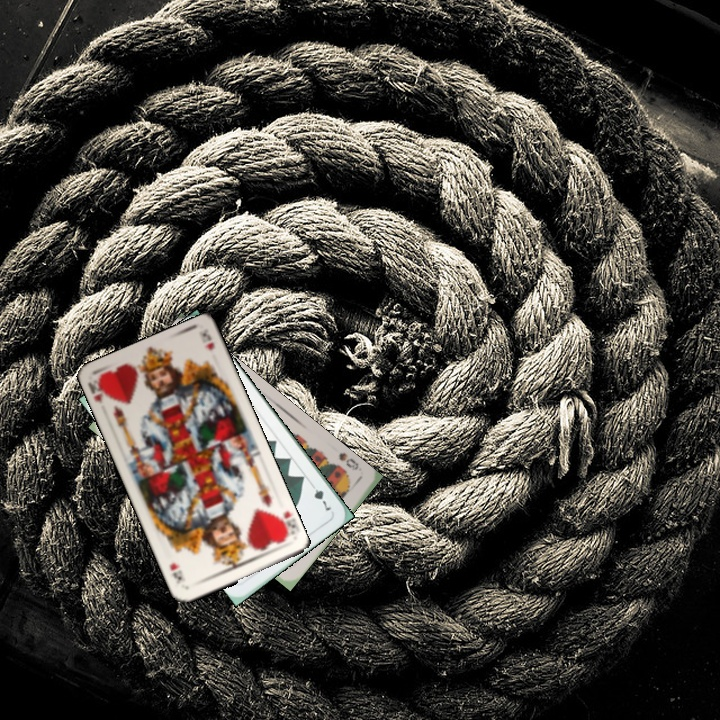G7: (306, 478, 334, 513)
HK: (84, 374, 112, 406), (273, 506, 298, 540)
S8: (335, 448, 362, 473)
